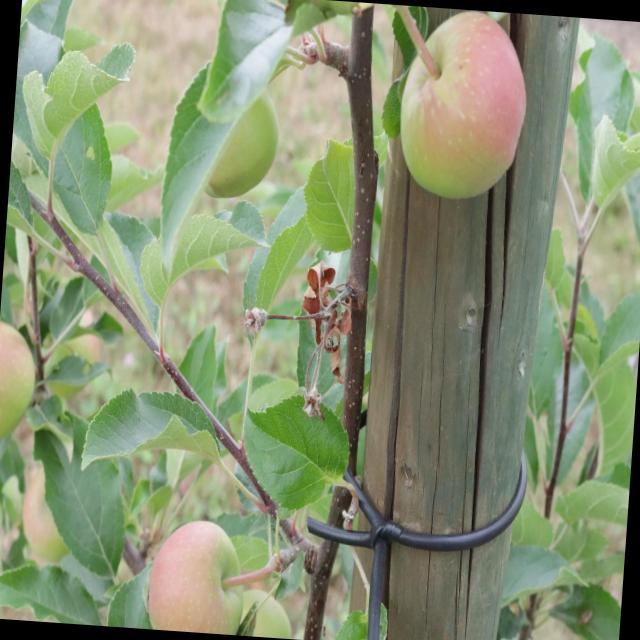-FireBlight-: (288, 266, 347, 384)
